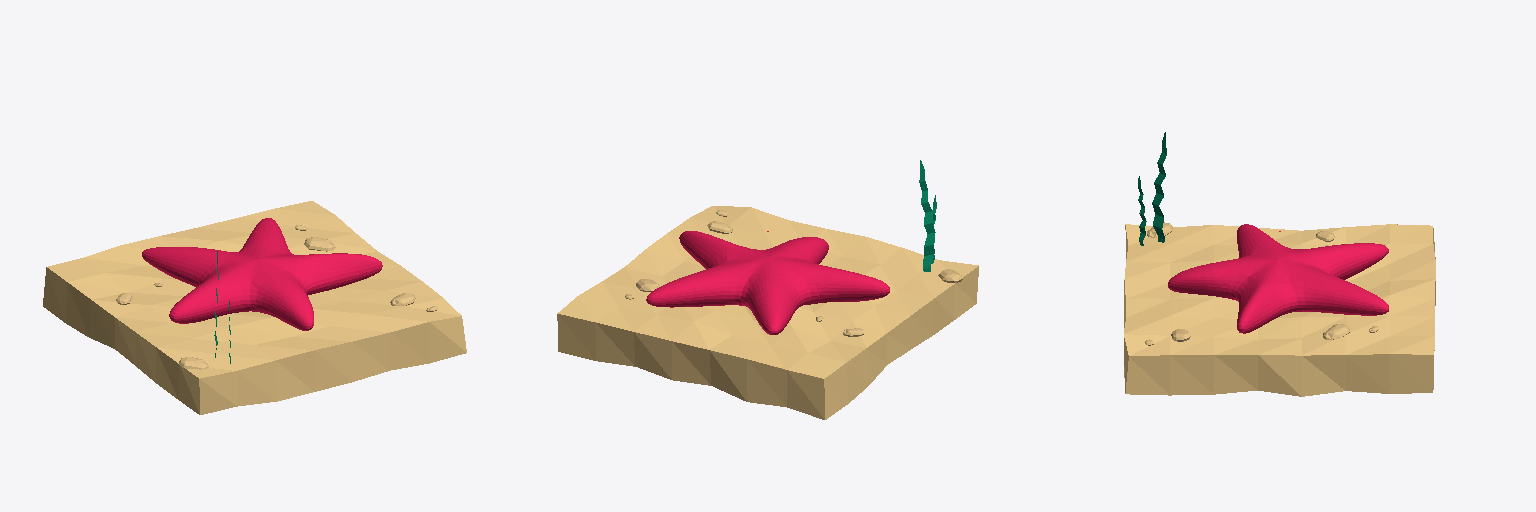
Rendered from Estrella.obj.
3 views of the same model, side by side, from view 1: azimuth 30°, elevation 25°; view 2: azimuth 150°, elevation 25°; view 3: azimuth 270°, elevation 25° (orthographic).
Visible parts, largest first — view 1: Lowpoly_Starfish:Mesh; view 2: Lowpoly_Starfish:Mesh; view 3: Lowpoly_Starfish:Mesh.
Boxes of the visible parts, <box> form: Lowpoly_Starfish:Mesh: <box>43,201,466,414</box>; Lowpoly_Starfish:Mesh: <box>557,160,978,419</box>; Lowpoly_Starfish:Mesh: <box>1124,132,1435,396</box>.
Size of the model in its own units: 18.64 by 10.22 by 18.66.